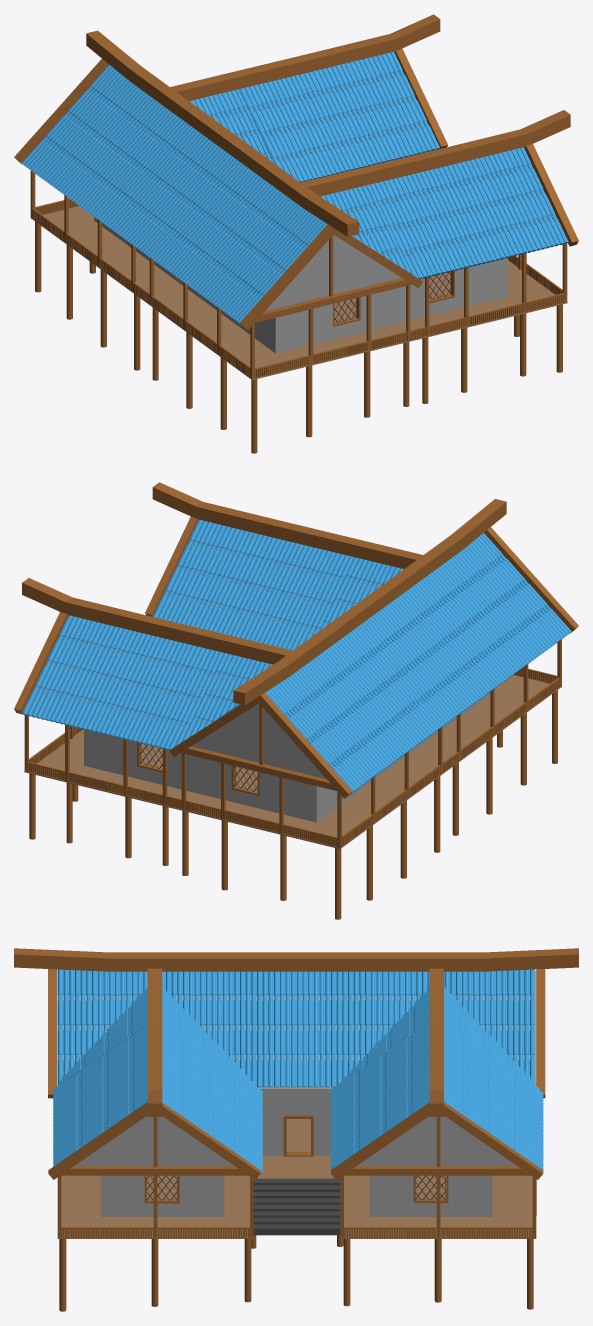
File: japán2.fbx
3 views of the same model, one above another, from view 1: azimuth 30°, elevation 25°; view 2: azimuth 150°, elevation 25°; view 3: azimuth 270°, elevation 25° (orthographic). The views are drawn at different scales.
Parts seen in each view (by area): view 1: roofb, Circle.009, Circle.007, floor, wall, Cube.013, Cube.021, Cube.028, roof.002, Circle.008, Cube.010, Circle.010 (+9 smaller); view 2: roofb, Circle.002, Circle.005, floor, wall, Cube.013, Cube.028, Cube.021, roof.002, Circle.004, Cube.012, Circle.006 (+9 smaller); view 3: Circle.003, floor, wall, Cube.013, Circle.005, Circle.009, Circle.002, Circle.007, roof.001, roof, Cube.028, Cube.021 (+30 smaller).
Part boxes in pixels (bbox=[...]): roofb: bbox=[21, 64, 327, 324]; Circle.009: bbox=[239, 51, 439, 182]; Circle.007: bbox=[370, 147, 568, 279]; floor: bbox=[30, 206, 567, 379]; wall: bbox=[94, 217, 507, 353]; Cube.013: bbox=[86, 30, 359, 236]; Cube.021: bbox=[170, 14, 440, 100]; Cube.028: bbox=[300, 110, 570, 196]; roof.002: bbox=[266, 234, 401, 310]; Circle.008: bbox=[320, 184, 411, 273]; Cube.010: bbox=[255, 295, 564, 377]; Circle.010: bbox=[189, 89, 273, 162]; roofb: bbox=[265, 533, 571, 793]; Circle.002: bbox=[22, 615, 223, 750]; Circle.005: bbox=[153, 519, 353, 650]; floor: bbox=[24, 674, 561, 848]; wall: bbox=[84, 686, 498, 822]; Cube.013: bbox=[233, 499, 506, 705]; Cube.028: bbox=[152, 482, 422, 568]; Cube.021: bbox=[22, 578, 292, 664]; roof.002: bbox=[191, 703, 325, 778]; Circle.004: bbox=[181, 653, 272, 741]; Cube.012: bbox=[27, 763, 337, 846]; Circle.006: bbox=[319, 557, 403, 631]; Circle.003: bbox=[57, 969, 534, 1087]; floor: bbox=[57, 1119, 536, 1238]; wall: bbox=[101, 1090, 492, 1216]; Cube.013: bbox=[14, 948, 578, 971]; Circle.005: bbox=[162, 1022, 262, 1173]; Circle.009: bbox=[330, 1022, 429, 1169]; Circle.002: bbox=[444, 1023, 543, 1170]; Circle.007: bbox=[53, 1024, 147, 1166]; roof.001: bbox=[357, 1116, 516, 1165]; roof: bbox=[75, 1116, 234, 1165]; Cube.028: bbox=[147, 968, 162, 1116]; Cube.021: bbox=[429, 968, 443, 1116].
Bounding box in the file's own units: 4835 × 2864 × 5871.
